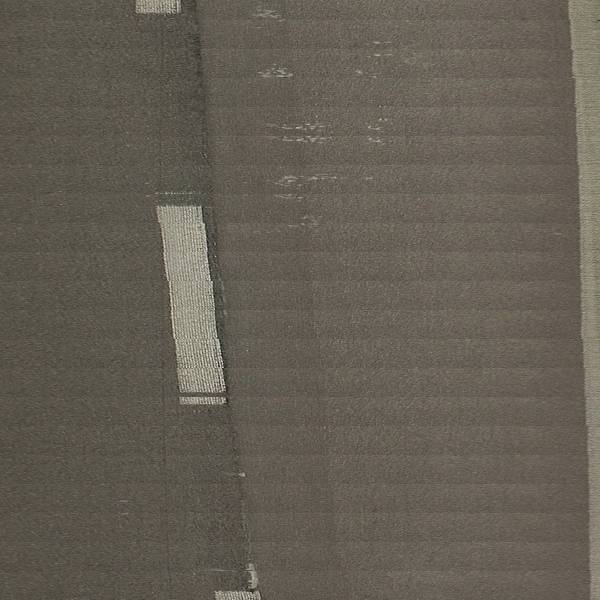road_damage: (191, 2, 252, 581)
